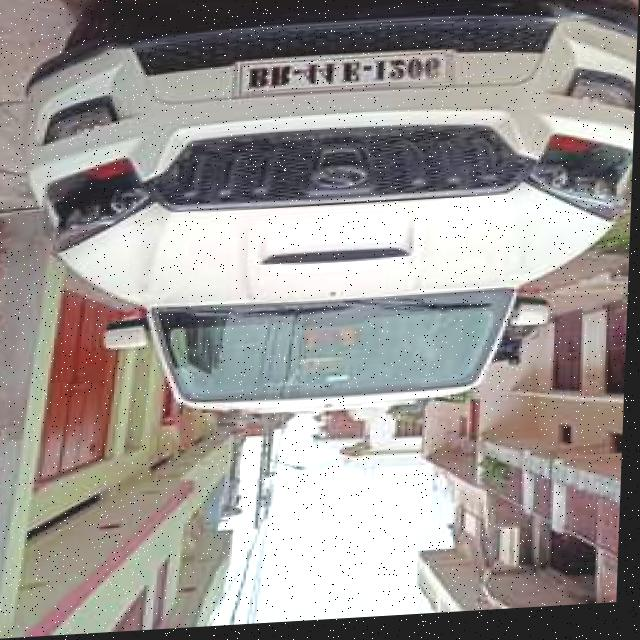plate: (240, 53, 455, 100)
